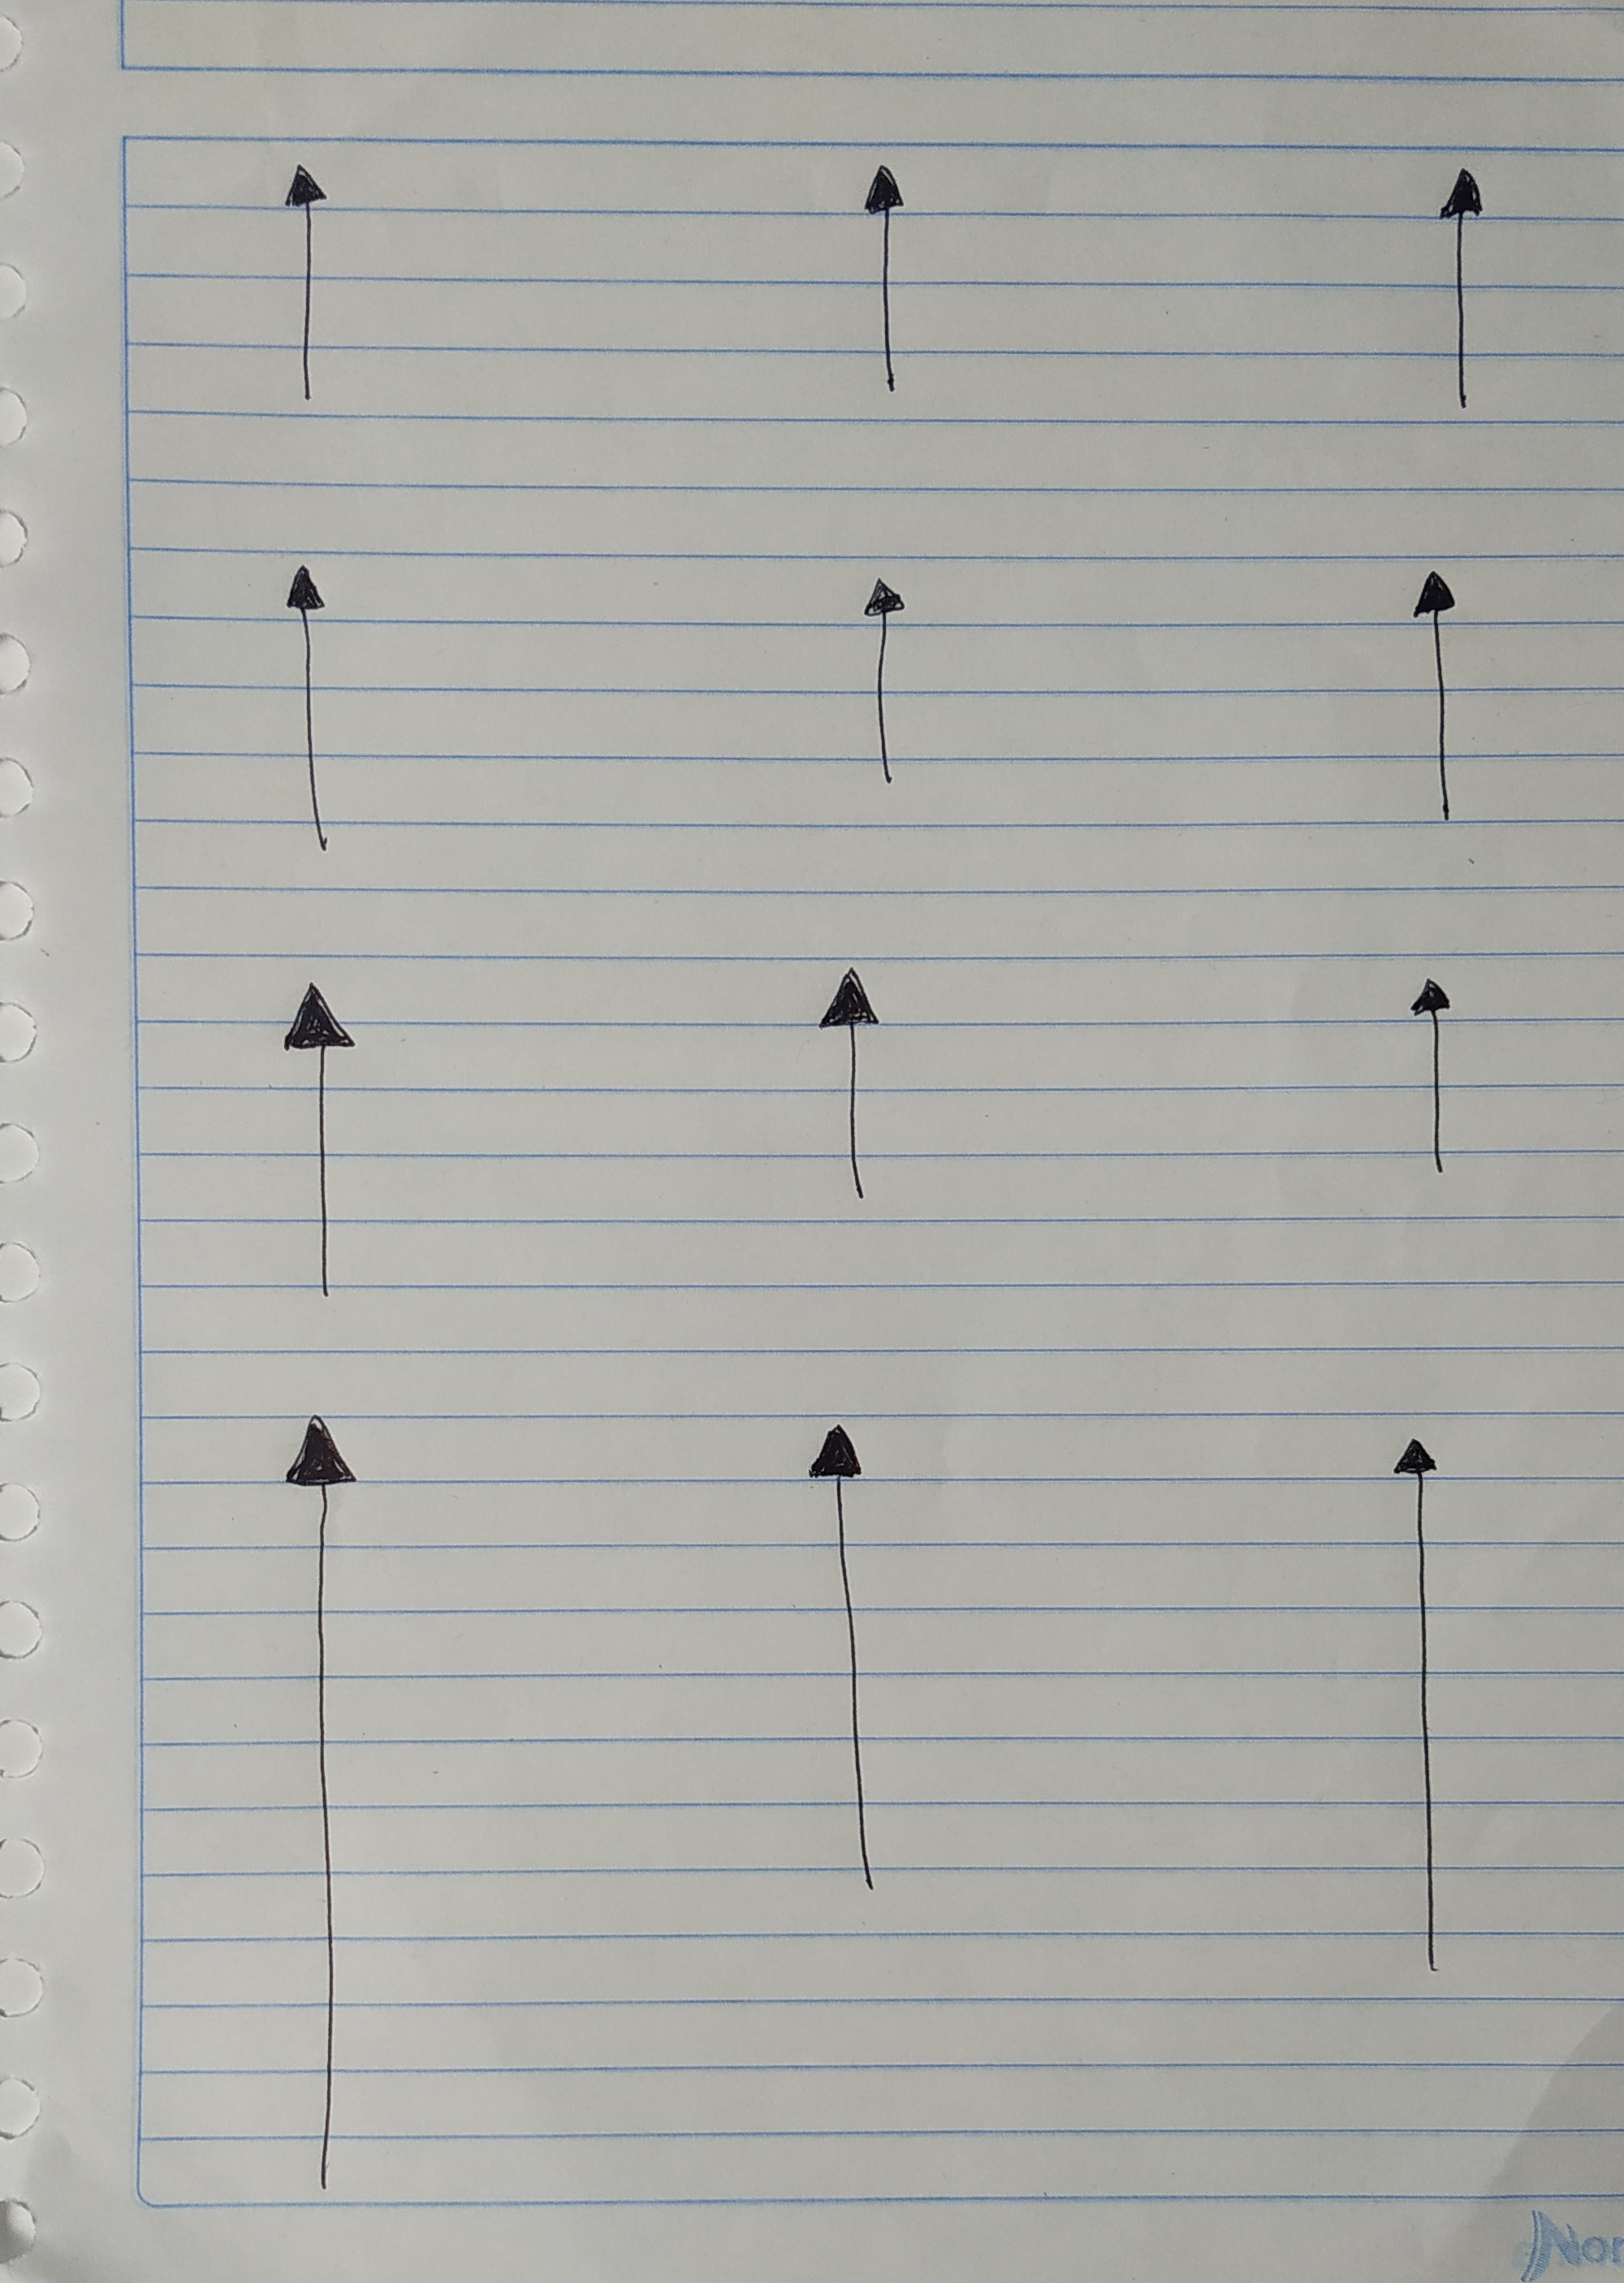arrow_line_up: (283, 1415, 359, 2193), (805, 1422, 884, 1896), (1394, 1436, 1448, 1988), (279, 981, 357, 1306), (816, 965, 882, 1206), (283, 564, 332, 859), (276, 158, 330, 411), (1410, 568, 1462, 823), (861, 160, 912, 390), (1439, 167, 1485, 417), (861, 575, 909, 789), (1410, 977, 1455, 1179)
